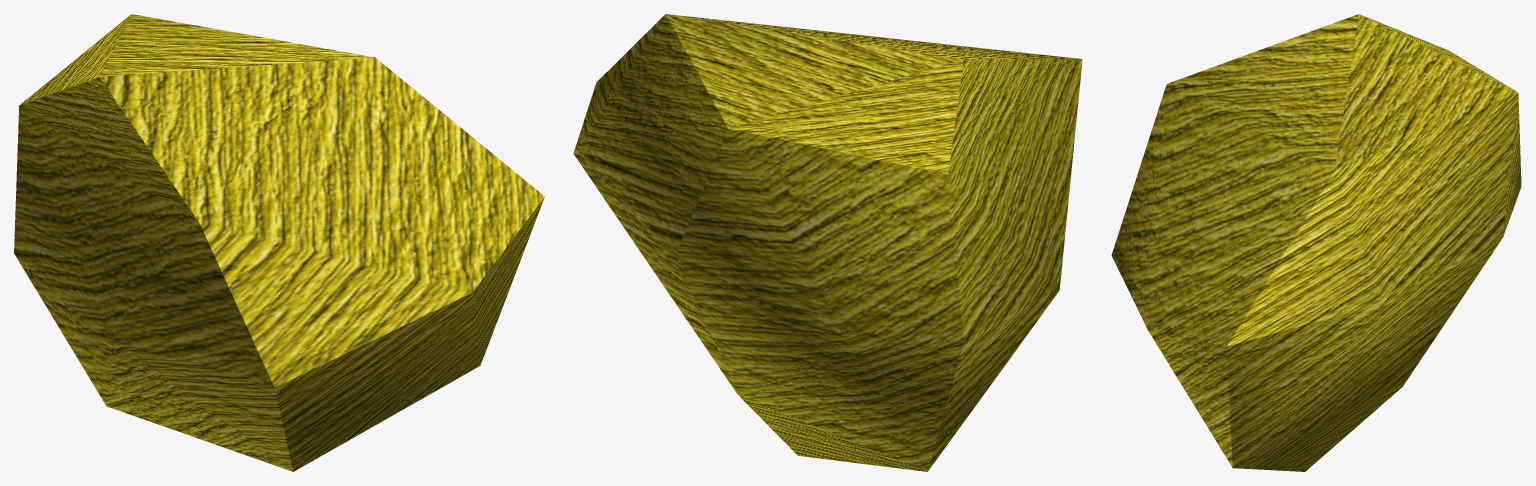
Rendered from mm9_deco_stoneyellow.glb.
3 renders of one model, left to right at view 1: azimuth 30°, elevation 25°; view 2: azimuth 150°, elevation 25°; view 3: azimuth 270°, elevation 25°, orthographic. The views are drawn at different scales.
Parts seen in each view (by area): view 1: Stoneyellow; view 2: Stoneyellow; view 3: Stoneyellow.
Part boxes in pixels (x1=…): Stoneyellow: x1=14, y1=14, x2=544, y2=471; Stoneyellow: x1=573, y1=14, x2=1082, y2=471; Stoneyellow: x1=1111, y1=14, x2=1521, y2=471.
Size of the model in its own units: 0.2098 by 0.1882 by 0.1843.
1 material, 1 textured.
